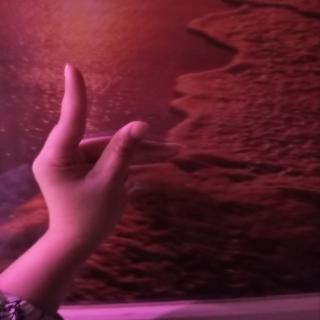DHAA: (29, 56, 186, 251)
